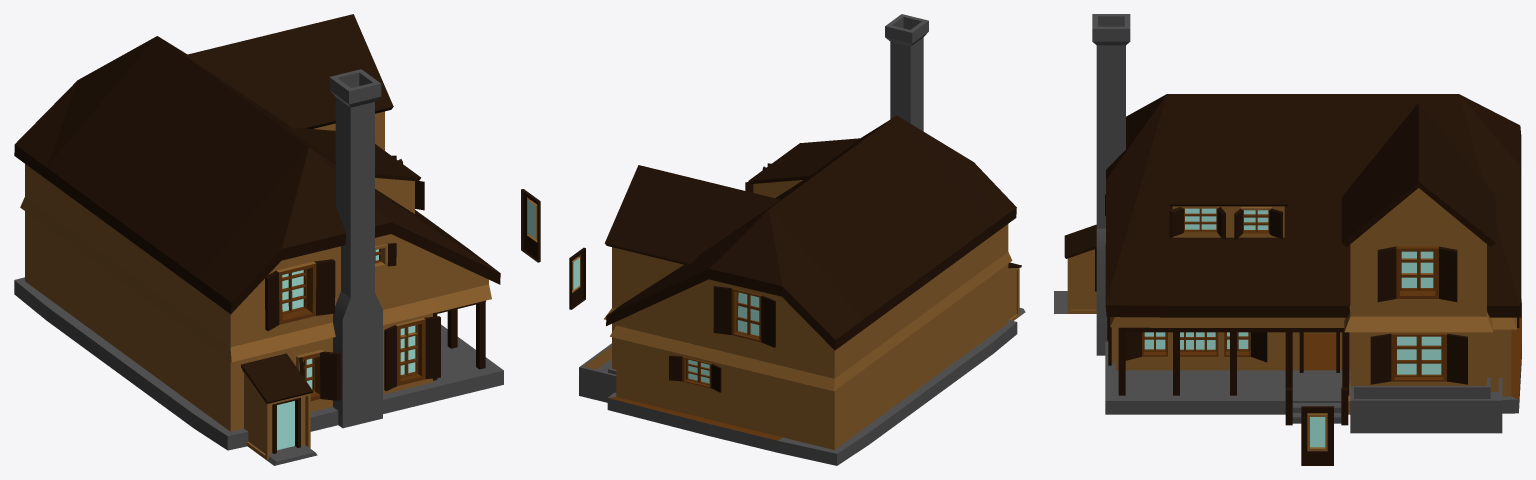
File: Big House Color.FBX
3 renders of one model, left to right at view 1: azimuth 30°, elevation 25°; view 2: azimuth 150°, elevation 25°; view 3: azimuth 270°, elevation 25°, orthographic. The views are drawn at different scales.
Parts seen in each view (by area): view 1: Box001, Box013, Box002, Box017, Box003, Box021, Box004; view 2: Box001, Box002, Box013, Box003, Box020, Box019, Box021, Box017; view 3: Box001, Box002, Box003, Box013, Box018, Box017, Box021, Box014, Box004, Box007.
Boxes of the visible parts, <box> form: Box001: <box>14,36,503,450</box>; Box013: <box>329,69,382,428</box>; Box002: <box>185,14,393,150</box>; Box017: <box>241,353,317,465</box>; Box003: <box>287,127,424,213</box>; Box021: <box>521,189,540,262</box>; Box004: <box>476,302,485,369</box>; Box001: <box>606,115,1017,465</box>; Box002: <box>579,165,780,402</box>; Box013: <box>885,14,928,131</box>; Box003: <box>745,138,860,197</box>; Box020: <box>713,286,775,347</box>; Box019: <box>669,355,721,392</box>; Box021: <box>569,247,585,309</box>; Box017: <box>1008,262,1025,320</box>; Box001: <box>1095,94,1521,414</box>; Box002: <box>1341,102,1502,433</box>; Box003: <box>1169,147,1287,240</box>; Box013: <box>1092,14,1130,355</box>; Box018: <box>1370,333,1467,384</box>; Box017: <box>1054,224,1096,313</box>; Box021: <box>1301,406,1333,465</box>; Box014: <box>1118,327,1342,332</box>; Box004: <box>1118,327,1125,395</box>; Box007: <box>1285,328,1292,387</box>.
Size of the model in its own units: 338 by 260 by 340.
